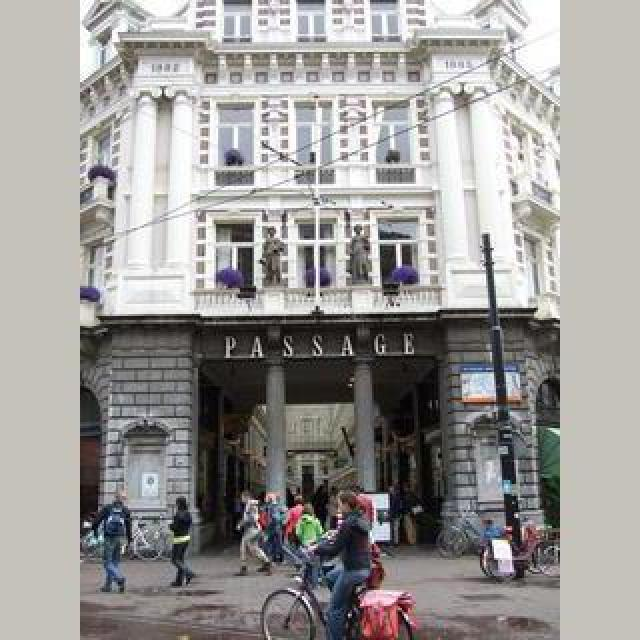MC-Bike: (306, 488, 376, 640), (92, 488, 134, 594), (166, 496, 196, 586)
Person: (268, 552, 430, 640)
